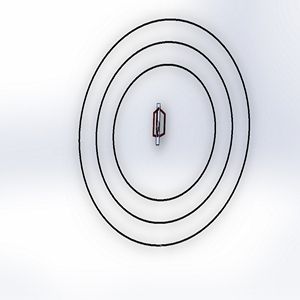circle: (72, 13, 258, 252)
submarine: (144, 98, 181, 154)
